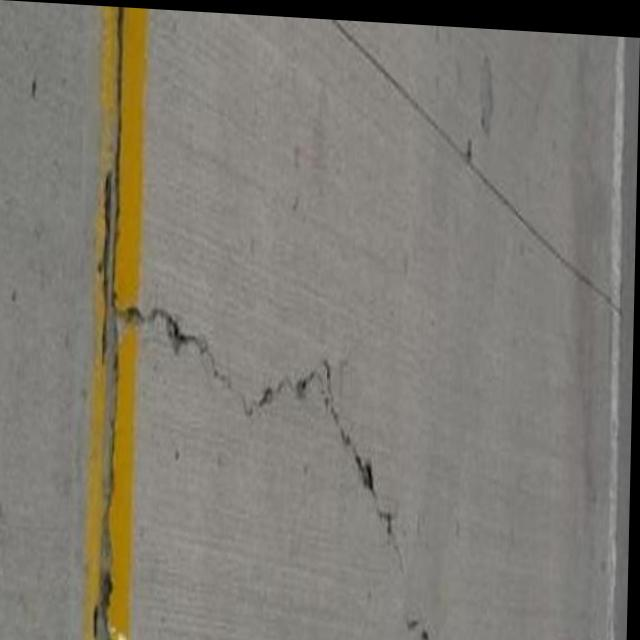Crack: (132, 295, 389, 435), (297, 395, 430, 538)
